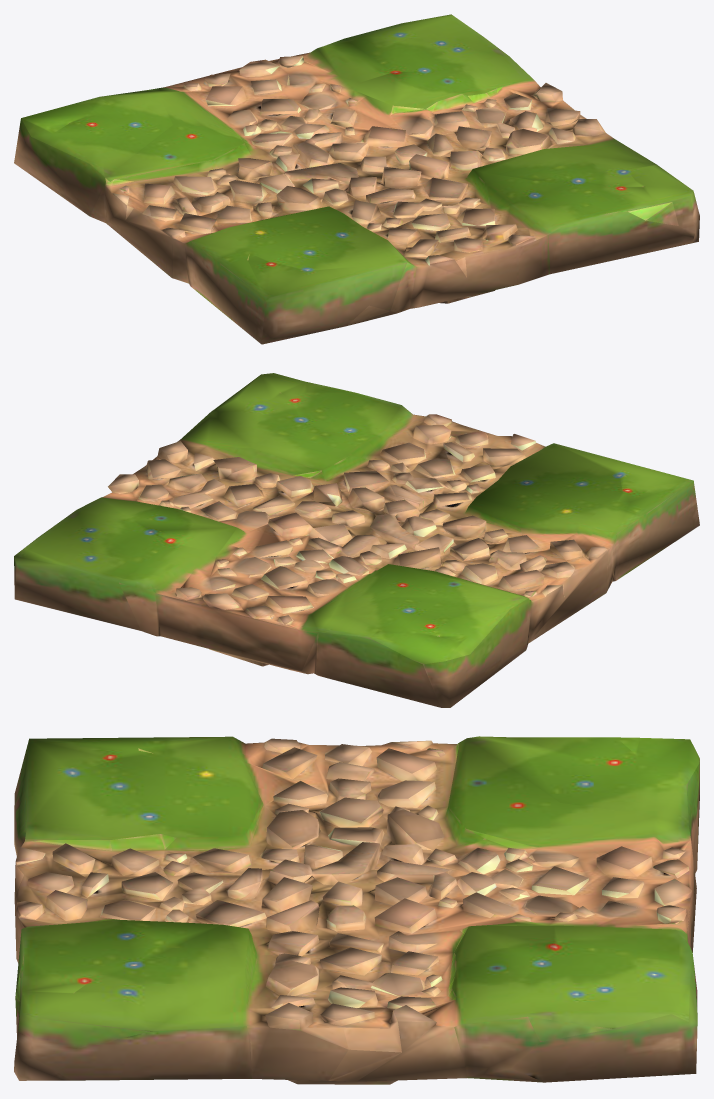
File: path-cross-b.glb
The picture shows the model from 3 angles, top to bottom: view 1: azimuth 30°, elevation 25°; view 2: azimuth 150°, elevation 25°; view 3: azimuth 270°, elevation 25°; orthographic projection. The views are drawn at different scales.
Parts seen in each view (by area): view 1: Mesh1.0; view 2: Mesh1.0; view 3: Mesh1.0.
Part boxes in pixels (x1,y1,x2,y2): Mesh1.0: (14, 14, 699, 344); Mesh1.0: (14, 373, 699, 707); Mesh1.0: (14, 736, 699, 1084).
Size of the model in its own units: 1.9 by 0.2456 by 1.9.
1 material, 1 textured.
